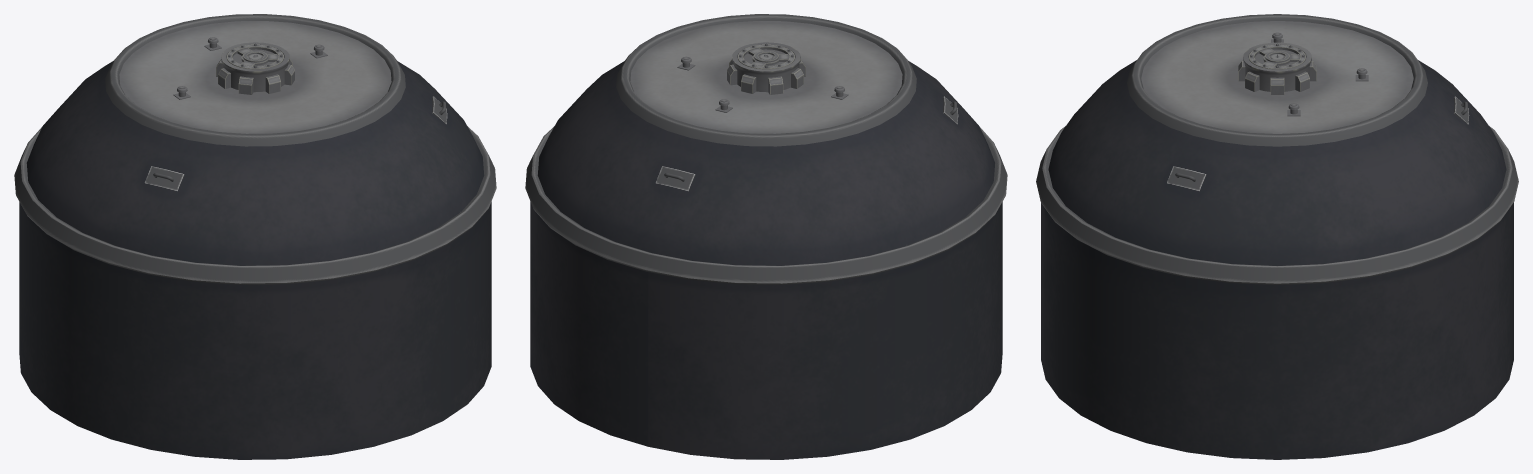
Rendered from SM_MagicTank.fbx.
3 views of the same model, side by side, from view 1: azimuth 30°, elevation 25°; view 2: azimuth 150°, elevation 25°; view 3: azimuth 270°, elevation 25° (orthographic).
Parts seen in each view (by area): view 1: Tank_mesh; view 2: Tank_mesh; view 3: Tank_mesh.
Part boxes in pixels (<box>): Tank_mesh: <box>14,14,496,459</box>; Tank_mesh: <box>525,14,1007,459</box>; Tank_mesh: <box>1036,14,1518,459</box>.
Size of the model in its own units: 12.8 by 8.92 by 12.8.
